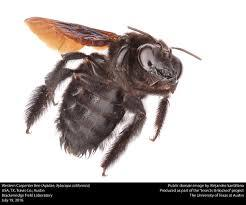Xylocopa: (20, 8, 193, 169)
